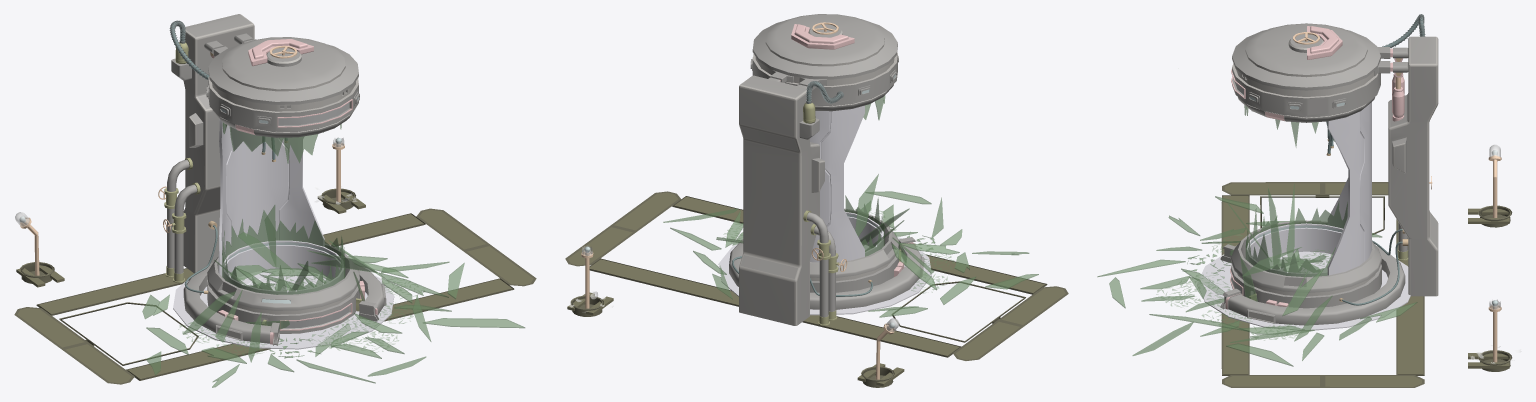
Rendered from capsule Broken.fbx.
3 views of the same model, side by side, from view 1: azimuth 30°, elevation 25°; view 2: azimuth 150°, elevation 25°; view 3: azimuth 270°, elevation 25° (orthographic). The views are drawn at different scales.
Visible parts, largest first — view 1: old31, old28, old24, old8, old1, old2, old25, old7, old5, old4, old3, old33 (+4 smaller); view 2: old1, old28, old24, old31, old8, old7, old2, old5, old3, old26, old25, old4 (+3 smaller); view 3: old24, old31, old28, old1, old2, old8, old7, old25, old5, old9, old29, old33 (+3 smaller).
Part boxes in pixels (box(x1,y1,x2,y2)): old31: box(142, 122, 524, 387); old28: box(14, 188, 536, 384); old24: box(206, 37, 359, 137); old8: box(218, 119, 324, 276); old1: box(183, 14, 254, 273); old2: box(207, 243, 359, 333); old25: box(223, 240, 343, 294); old7: box(183, 262, 386, 345); old5: box(173, 275, 394, 349); old4: box(163, 182, 200, 282); old3: box(158, 158, 192, 277); old33: box(15, 137, 344, 275); old1: box(739, 75, 824, 325); old28: box(565, 191, 1068, 387); old24: box(750, 14, 898, 111); old31: box(663, 95, 1038, 317); old8: box(810, 105, 864, 262); old7: box(729, 237, 924, 309); old2: box(810, 208, 898, 292); old5: box(718, 236, 931, 315); old3: box(803, 210, 830, 325); old26: box(791, 24, 854, 49); old25: box(845, 212, 883, 256); old4: box(810, 224, 847, 320); old24: box(1231, 23, 1380, 122); old31: box(1097, 105, 1417, 366); old28: box(1221, 182, 1512, 387); old1: box(1388, 36, 1438, 296); old2: box(1230, 220, 1381, 308); old8: box(1327, 102, 1371, 275); old7: box(1220, 244, 1405, 325); old25: box(1246, 223, 1343, 276); old5: box(1197, 254, 1410, 330); old9: box(1374, 47, 1408, 121); old29: box(1468, 208, 1509, 368); old33: box(1488, 144, 1501, 362).
Bounding box in the file's own units: 168 × 97.65 × 147.
